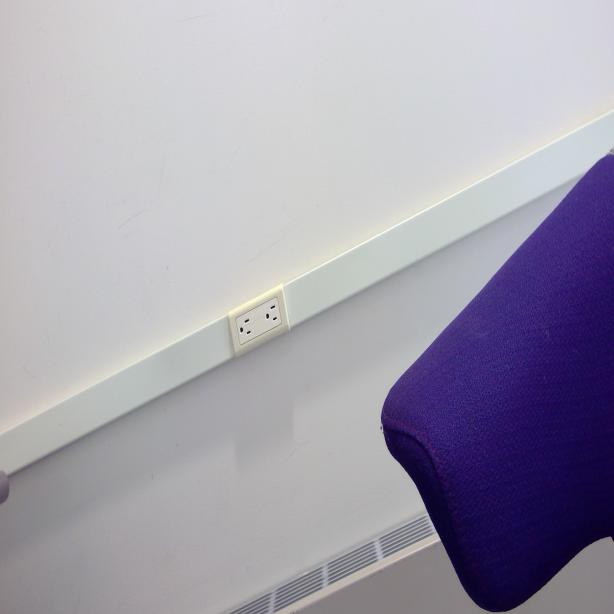typeb: (263, 302, 280, 331), (238, 317, 255, 342)
